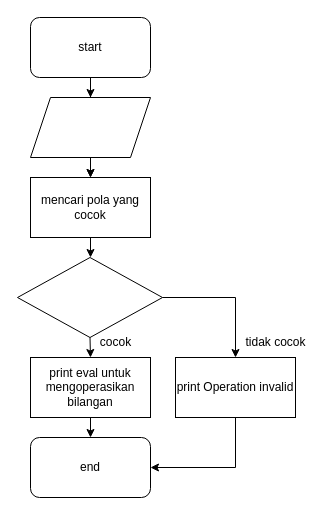
Some shapes in this 333 by 515 pixel diagram are drawn without their labels. Here are the shapes that lost their labels. From the top down, the box of each, then its label:
(30, 96, 150, 158): input operasi
(16, 256, 162, 338): pencocokan dengan pola
